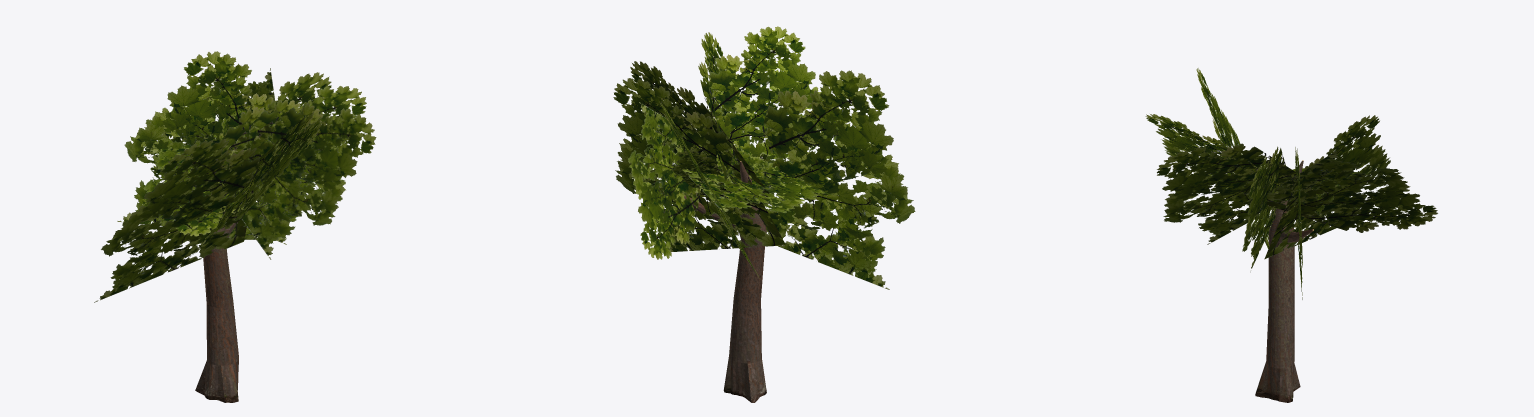
File: Semi_Realistic_Tree.fbx
The picture shows the model from 3 angles, left to right: view 1: azimuth 30°, elevation 25°; view 2: azimuth 150°, elevation 25°; view 3: azimuth 270°, elevation 25°; orthographic projection. The views are drawn at different scales.
Visible parts, largest first — view 1: Leafs, Trunk; view 2: Leafs, Trunk; view 3: Leafs, Trunk.
Boxes of the visible parts, <box> form: Leafs: <box>94,51,376,302</box>; Trunk: <box>195,193,238,402</box>; Leafs: <box>613,26,915,289</box>; Trunk: <box>684,161,766,402</box>; Leafs: <box>1145,68,1437,299</box>; Trunk: <box>1255,160,1313,402</box>.
Bounding box in the file's own units: 6329 × 4213 × 5672.
